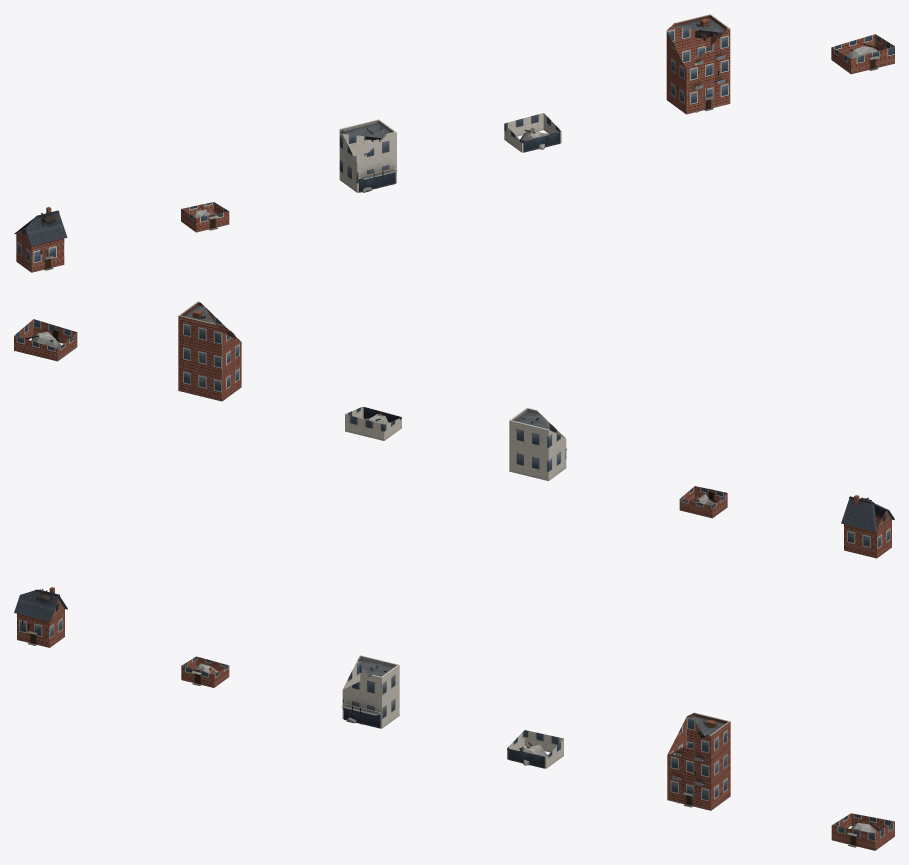
Rendered from modern-houses-damage.glb.
3 renders of one model, top to bottom at view 1: azimuth 30°, elevation 25°; view 2: azimuth 150°, elevation 25°; view 3: azimuth 330°, elevation 25°, orthographic.
Visible parts, largest first — view 1: LOD0.004, LOD0.002, LOD0, LOD0.005, LOD0.003, LOD0.001; view 2: LOD0.004, LOD0.002, LOD0, LOD0.005, LOD0.003, LOD0.001; view 3: LOD0.004, LOD0.002, LOD0, LOD0.005, LOD0.003, LOD0.001.
Part boxes in pixels (left/top/right/bottom): LOD0.004: left=666, top=14, right=730, bottom=114; LOD0.002: left=339, top=119, right=397, bottom=192; LOD0: left=14, top=207, right=67, bottom=272; LOD0.005: left=831, top=34, right=894, bottom=74; LOD0.003: left=504, top=113, right=561, bottom=152; LOD0.001: left=181, top=202, right=229, bottom=232; LOD0.004: left=178, top=301, right=241, bottom=401; LOD0.002: left=509, top=407, right=567, bottom=480; LOD0: left=841, top=495, right=894, bottom=558; LOD0.005: left=14, top=319, right=77, bottom=361; LOD0.003: left=345, top=406, right=401, bottom=440; LOD0.001: left=679, top=486, right=727, bottom=518; LOD0.004: left=667, top=712, right=730, bottom=810; LOD0.002: left=342, top=655, right=399, bottom=728; LOD0: left=14, top=587, right=67, bottom=647; LOD0.005: left=831, top=813, right=894, bottom=850; LOD0.003: left=507, top=730, right=563, bottom=768; LOD0.001: left=181, top=656, right=229, bottom=687.
Size of what is drawn, in the model's own units: 15.73 by 1.34 by 0.685.
Materials: 2 (2 with a texture image).
